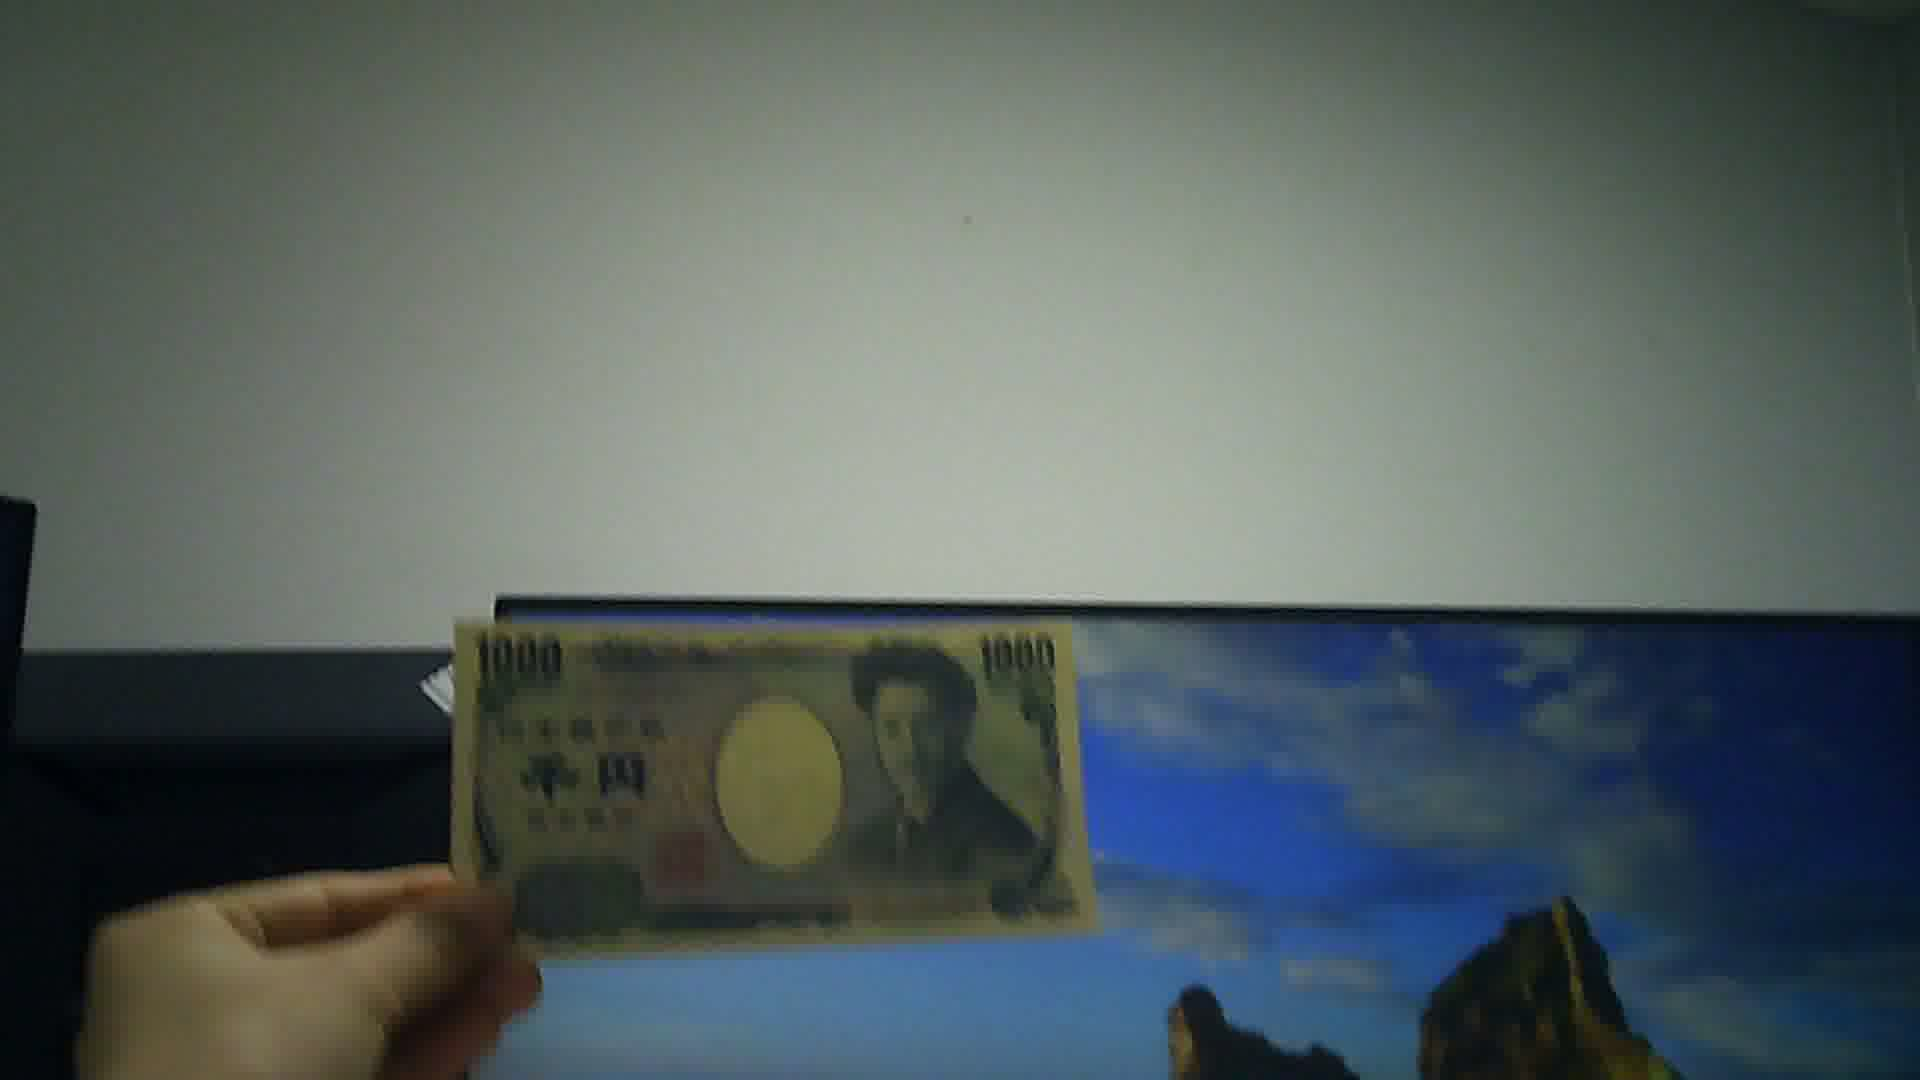1,000 Yen: (444, 615, 1112, 949)
